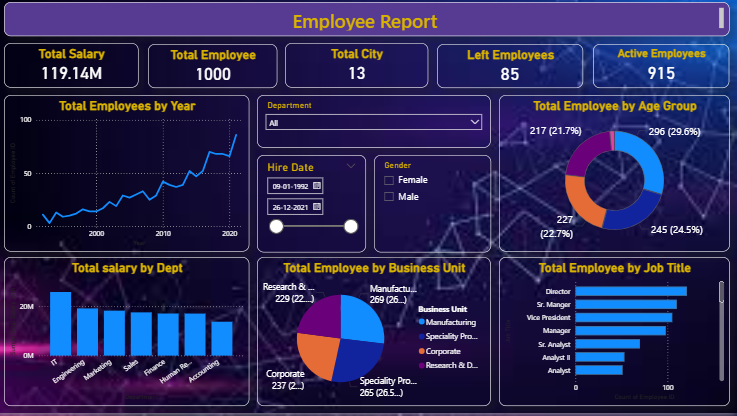

The page's visual inventory and layout, read from the dashboard file:
{"tool":"powerbi","page":{"name":"Page 1","canvas":[1280,720],"ordinal":0},"visuals":[{"type":"lineChart","title":" Total Employees  by Year","fields":{"Category":["Employee Raw Data.Hire Date.Variation.Date Hierarchy.Year"],"Y":["CountNonNull(Employee Raw Data.Employee ID)"]},"box":[15.1,173,423.3,270.4],"z":0},{"type":"columnChart","title":"Total salary by Dept","fields":{"Category":["Employee Raw Data.Department"],"Y":["Sum(Employee Raw Data.Total Salary with Bonus)"]},"box":[15.1,451.9,423.3,257],"z":1000},{"type":"pieChart","title":"Total Employee  by Business Unit","fields":{"Category":["Employee Raw Data.Business Unit"],"Y":["CountNonNull(Employee Raw Data.Employee ID)"]},"box":[451.9,451.9,403.1,257],"z":2000},{"type":"donutChart","title":"Total Employee  by Age Group","fields":{"Category":["Employee Raw Data.Age Group"],"Y":["CountNonNull(Employee Raw Data.Employee ID)"]},"box":[868.5,173,398.1,270.4],"z":3000},{"type":"clusteredBarChart","title":"Total Employee  by Job Title","fields":{"Category":["Employee Raw Data.Job Title"],"Y":["CountNonNull(Employee Raw Data.Employee ID)"]},"box":[868.5,451.9,398.1,257],"z":4000},{"type":"card","title":"Total Employee","fields":{"Values":["CountNonNull(Employee Raw Data.Employee ID)"]},"box":[263.7,84,223.4,75.6],"z":5000},{"type":"card","title":"Total Salary","fields":{"Values":["Sum(Employee Raw Data.Total Salary with Bonus)"]},"box":[15.1,82.3,231.8,77.3],"z":6000},{"type":"card","title":"Total City","fields":{"Values":["Count(Employee Raw Data.City)"]},"box":[500.6,82.3,246.9,77.3],"z":7000},{"type":"card","title":"Left Employees","fields":{"Values":["Sum(Employee Raw Data.Left Status)"]},"box":[762.6,84,252,75.6],"z":8000},{"type":"card","title":"Active Employees","fields":{"Values":["Employee Raw Data.Active Employees"]},"box":[1031.4,84,235.2,75.6],"z":9000},{"type":"textbox","box":[15.1,11.8,1251.4,58.8],"z":10000},{"type":"slicer","fields":{"Values":["Employee Raw Data.Gender"]},"box":[653.4,275.5,201.6,168],"z":11000},{"type":"slicer","fields":{"Values":["Employee Raw Data.Department"]},"box":[451.9,173,403.1,90.7],"z":12000},{"type":"slicer","fields":{"Values":["Employee Raw Data.Hire Date"]},"box":[451.9,275.5,188.1,168],"z":13000}]}

Visuals, with their boxes in screenshot pixels (x1, y1, x2, y2), scaled from the page's 1280x720 canvas onto the 737x416 screenshot:
" Total Employees  by Year" lineChart: 9,100,252,256
"Total salary by Dept" columnChart: 9,261,252,410
"Total Employee  by Business Unit" pieChart: 260,261,492,410
"Total Employee  by Age Group" donutChart: 500,100,729,256
"Total Employee  by Job Title" clusteredBarChart: 500,261,729,410
"Total Employee" card: 152,49,280,92
"Total Salary" card: 9,48,142,92
"Total City" card: 288,48,430,92
"Left Employees" card: 439,49,584,92
"Active Employees" card: 594,49,729,92
textbox: 9,7,729,41
slicer - Employee Raw Data.Gender: 376,159,492,256
slicer - Employee Raw Data.Department: 260,100,492,152
slicer - Employee Raw Data.Hire Date: 260,159,368,256
